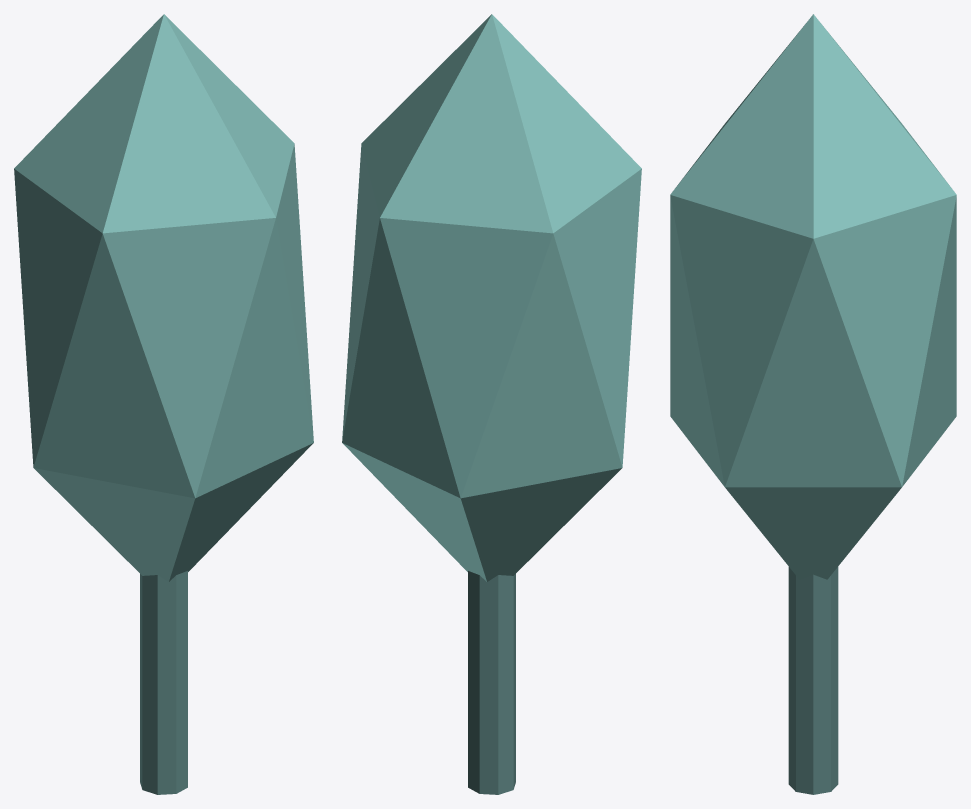
Rendered from campus_tree_tall_bare_v01.glb.
The picture shows the model from 3 angles, left to right: view 1: azimuth 30°, elevation 25°; view 2: azimuth 150°, elevation 25°; view 3: azimuth 270°, elevation 25°; orthographic projection.
Visible parts, largest first — view 1: campus_tree_tall_bare; view 2: campus_tree_tall_bare; view 3: campus_tree_tall_bare.
Part boxes in pixels (bbox=[...]): campus_tree_tall_bare: bbox=[14, 14, 313, 794]; campus_tree_tall_bare: bbox=[342, 14, 641, 794]; campus_tree_tall_bare: bbox=[670, 14, 956, 794].
Size of the model in its own units: 1.57 by 4.44 by 1.5.
Materials: 1 (1 with a texture image).
